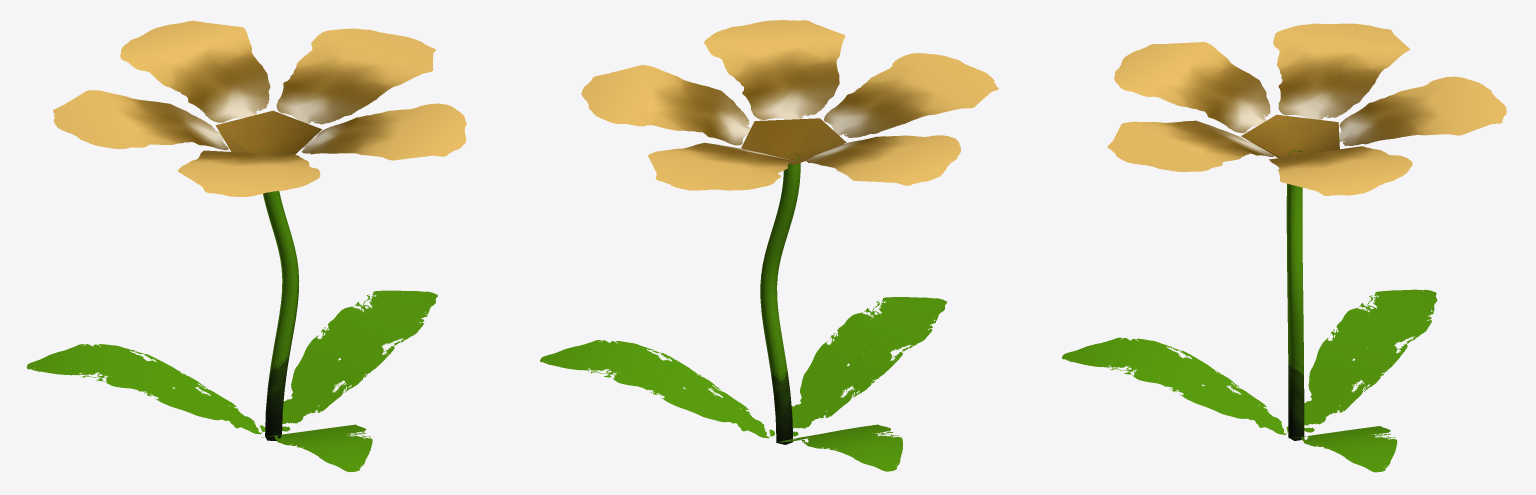
Rendered from Flower 1.fbx.
3 views of the same model, side by side, from view 1: azimuth 30°, elevation 25°; view 2: azimuth 150°, elevation 25°; view 3: azimuth 270°, elevation 25° (orthographic). The views are drawn at different scales.
Visible parts, largest first — view 1: Flower 1; view 2: Flower 1; view 3: Flower 1.
Boxes of the visible parts, <box> form: Flower 1: <box>26,20,466,472</box>; Flower 1: <box>540,20,998,471</box>; Flower 1: <box>1062,23,1506,472</box>.
Size of the model in its own units: 171 by 128 by 167.
